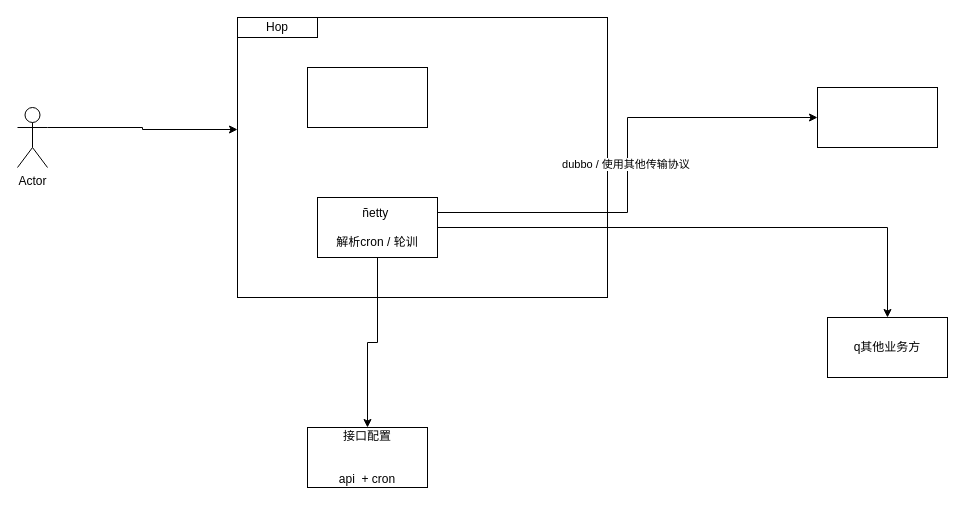
Image size: 965x505. Some labels were removed from this diagram. The shapes that lost their labels are listed below. From the top down, each one's centre as x and y in pixels, then its label:
(367,97): Http/ https
(877,117): Crm
